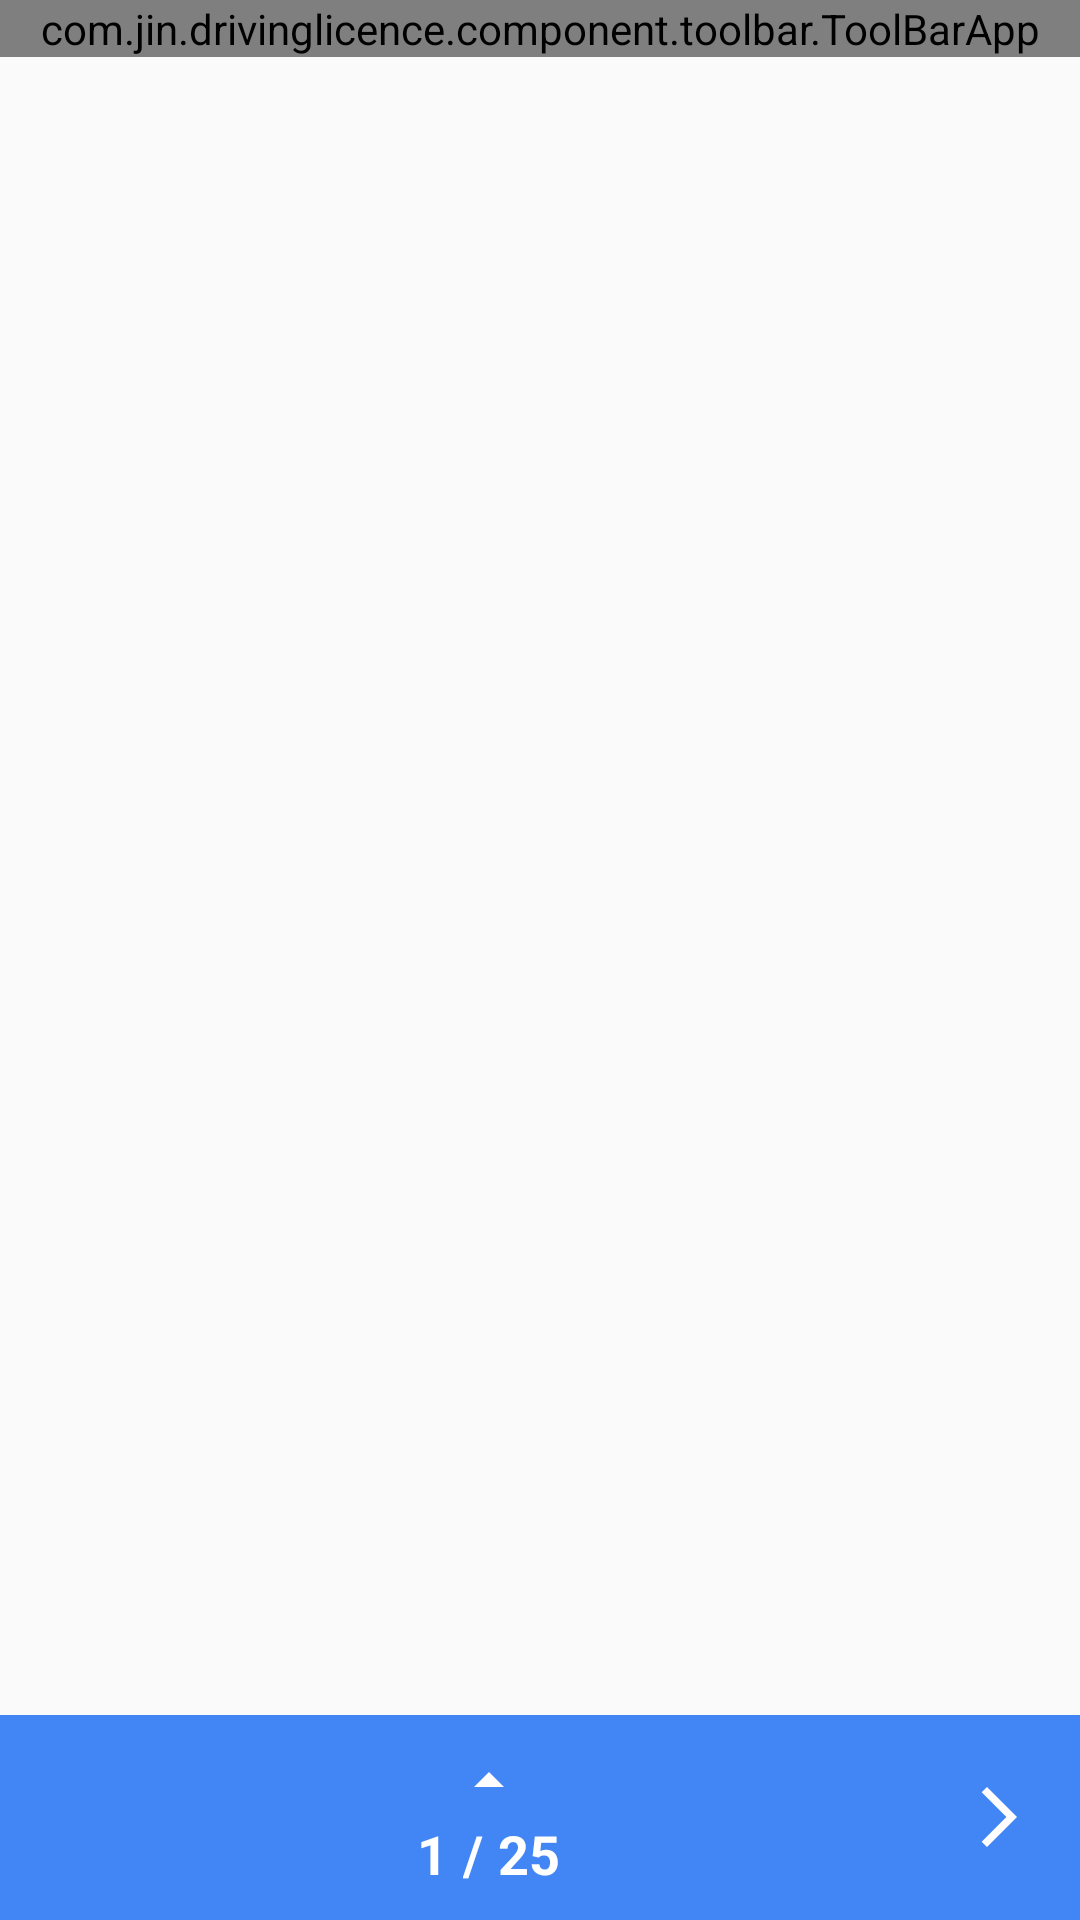

Icon click points for this 1080 × 1920 phone screenshot, format [x,y]:
forward question: [999,1817]
